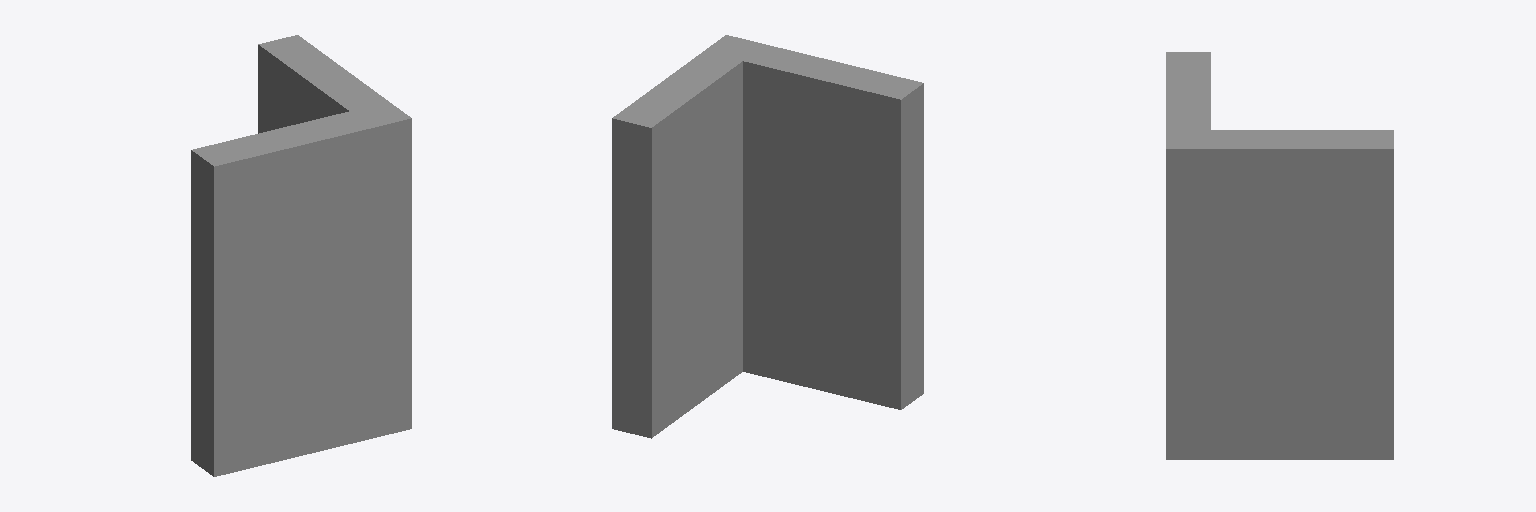
File: mur_deux_adjacents.obj
3 views of the same model, side by side, from view 1: azimuth 30°, elevation 25°; view 2: azimuth 150°, elevation 25°; view 3: azimuth 270°, elevation 25° (orthographic).
Visible parts, largest first — view 1: Cube; view 2: Cube; view 3: Cube.
Boxes of the visible parts, <box> form: Cube: <box>191,35,411,476</box>; Cube: <box>612,35,923,438</box>; Cube: <box>1166,52,1393,459</box>.
Bounding box in the file's own units: 2 × 3 × 2.